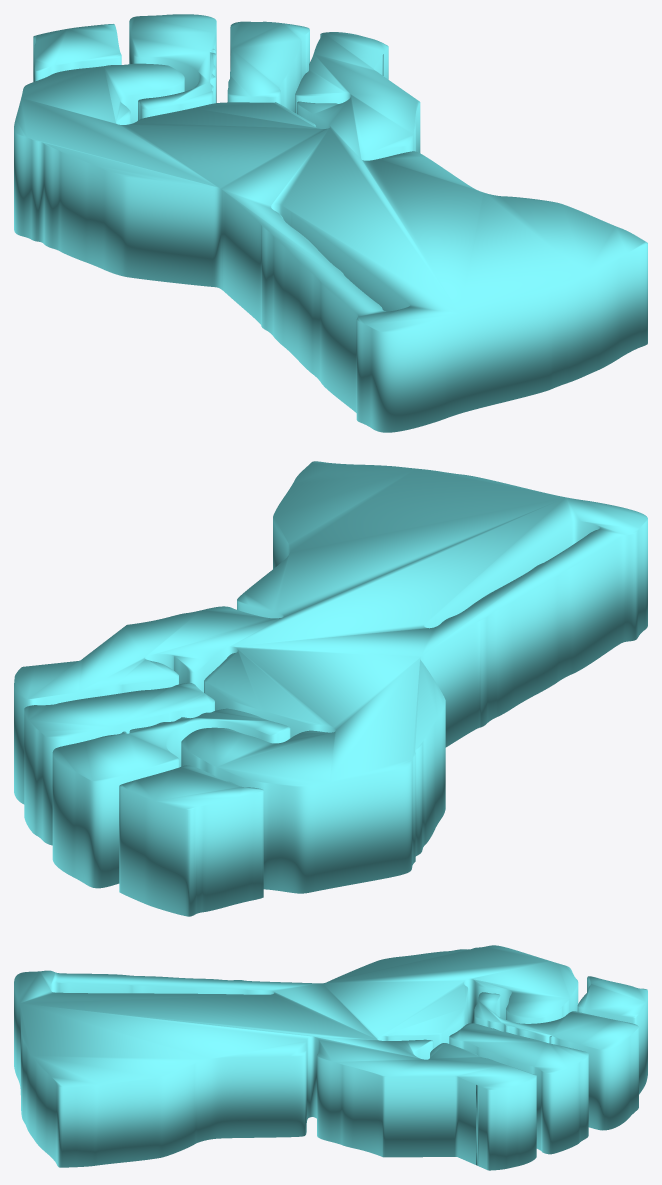
3 views of the same model, one above another, from view 1: azimuth 30°, elevation 25°; view 2: azimuth 150°, elevation 25°; view 3: azimuth 270°, elevation 25° (orthographic). The views are drawn at different scales.
Visible parts, largest first — view 1: rename; view 2: rename; view 3: rename.
Boxes of the visible parts, bbox=[...] form: rename: bbox=[14, 14, 647, 432]; rename: bbox=[14, 461, 647, 916]; rename: bbox=[14, 945, 647, 1170].
Size of the model in its own units: 38.48 by 10 by 71.3.
